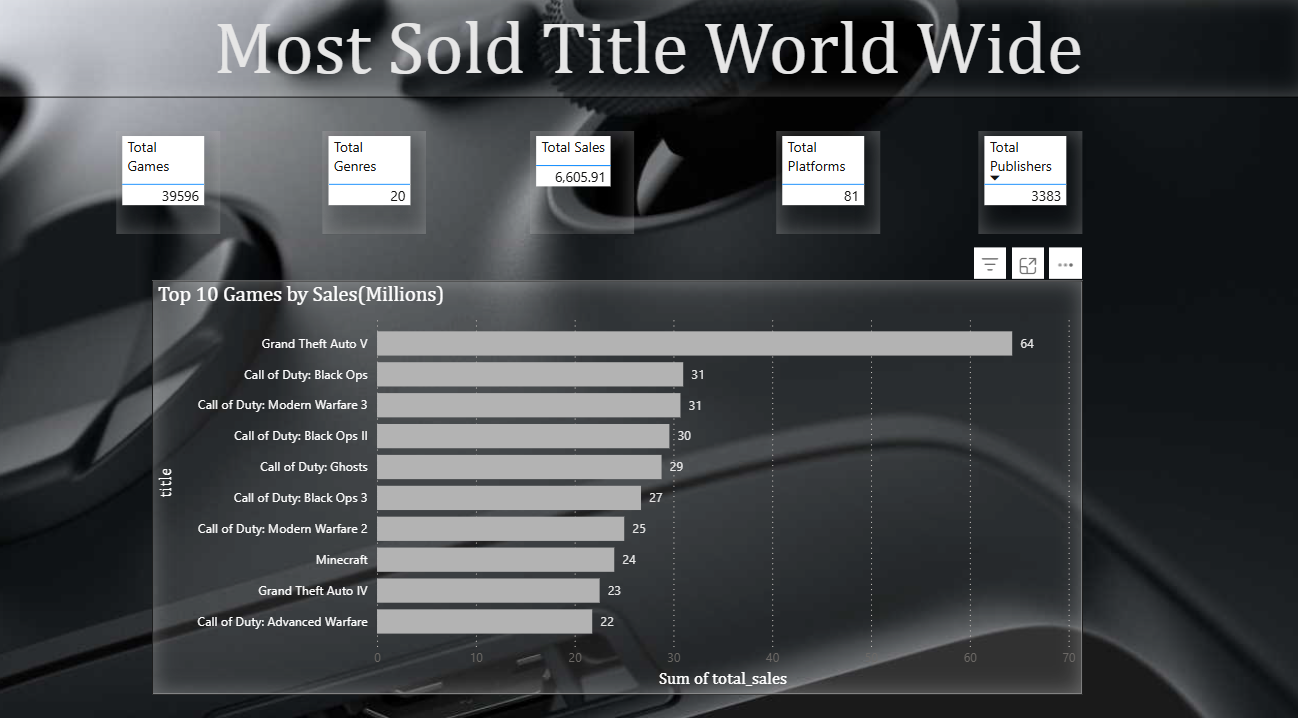

Layout of this report page (visuals, bound fields, positions):
{"tool":"powerbi","page":{"name":"Most sold titles Worldwide","canvas":[1280,720],"ordinal":1},"visuals":[{"type":"tableEx","fields":{"Values":["vgchartz-2024.TotalGames"]},"box":[125,130,100,100],"z":0},{"type":"tableEx","fields":{"Values":["vgchartz-2024.TotalGenres"]},"box":[325,130,100,100],"z":1000},{"type":"tableEx","fields":{"Values":["Sum(vgchartz-2024.total_sales)"]},"box":[525,130,100,100],"z":2000},{"type":"tableEx","fields":{"Values":["vgchartz-2024.TotalPlatforms"]},"box":[764.1,130,100,100],"z":3000},{"type":"tableEx","fields":{"Values":["vgchartz-2024.TotalPublishers"]},"box":[959,130,100,100],"z":4000},{"type":"clusteredBarChart","title":"Top 10 Games by Sales(Millions)","fields":{"Category":["vgchartz-2024.title"],"Y":["Sum(vgchartz-2024.total_sales)"]},"box":[159.7,275.8,900,400],"z":5000},{"type":"textbox","box":[0,0,1280.6,98.4],"z":6000}]}

Visuals, with their boxes in screenshot pixels (x1, y1, x2, y2), scaled from the page's 1280x720 canvas onto the 1298x718 screenshot:
tableEx - vgchartz-2024.TotalGames: x1=127 y1=130 x2=228 y2=229
tableEx - vgchartz-2024.TotalGenres: x1=330 y1=130 x2=431 y2=229
tableEx - Sum(vgchartz-2024.total_sales): x1=532 y1=130 x2=634 y2=229
tableEx - vgchartz-2024.TotalPlatforms: x1=775 y1=130 x2=876 y2=229
tableEx - vgchartz-2024.TotalPublishers: x1=972 y1=130 x2=1074 y2=229
"Top 10 Games by Sales(Millions)" clusteredBarChart: x1=162 y1=275 x2=1075 y2=674
textbox: x1=0 y1=0 x2=1297 y2=98
